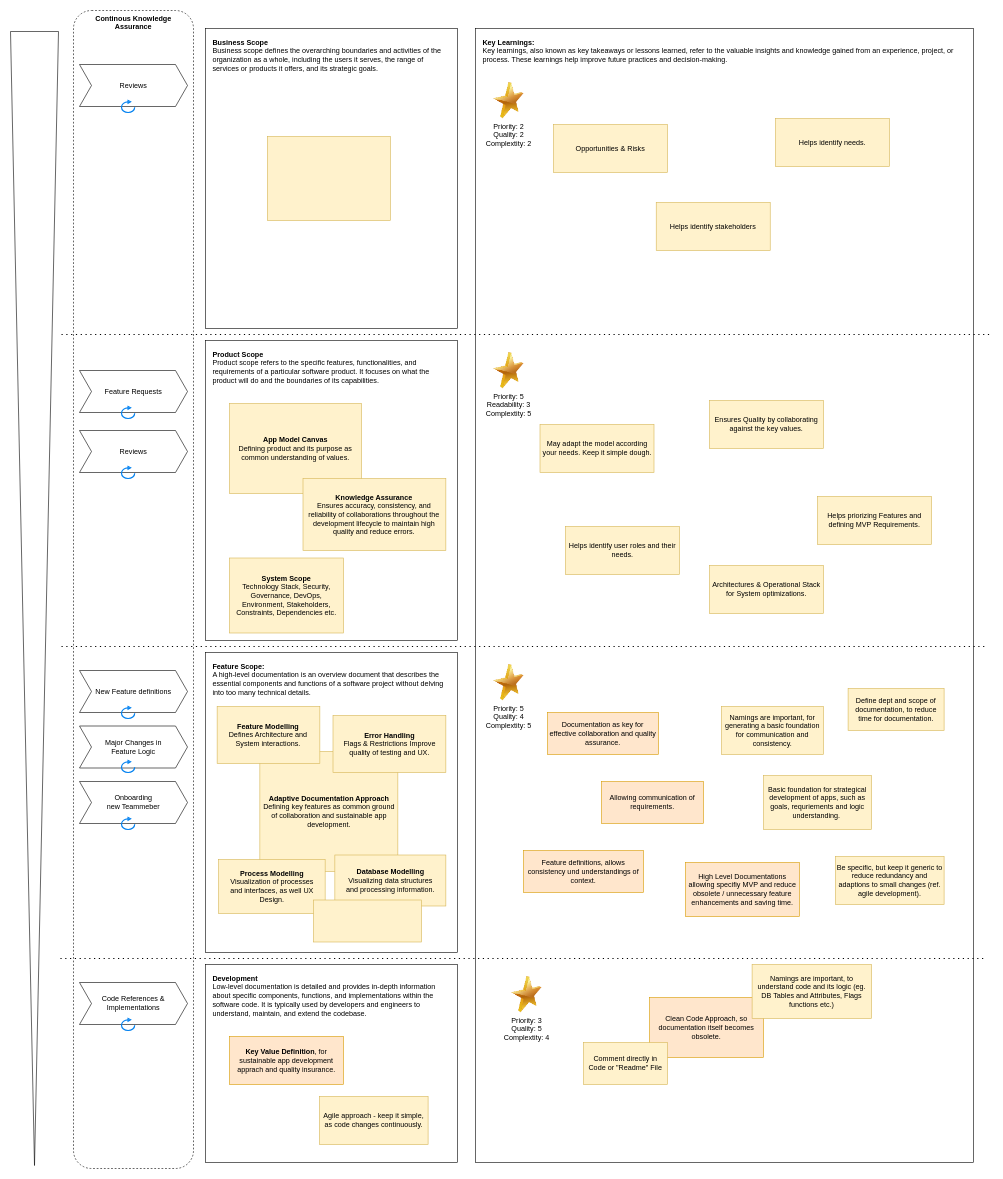
The diagram is 1003 pixels wide and 1179 high, and some of its shapes have lost their labels. Here are the shapes that lost their labels. From the top down, the centre of each, then its label:
At [328,178]: "Business Model Canvas".
At [367,920]: "Data Collections Communication of Data between client and server.".
